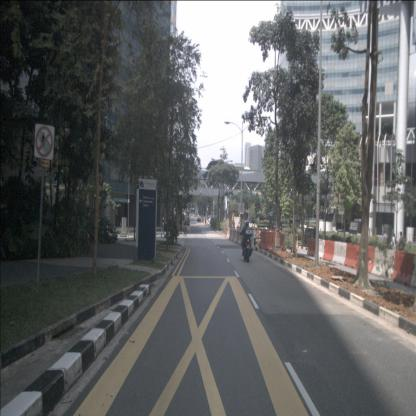human-pedestrian-adult: (395, 231, 406, 265), (382, 230, 388, 261), (390, 233, 396, 261), (161, 218, 165, 238)
movable_object-barrier: (391, 251, 416, 286), (370, 246, 395, 280), (357, 246, 375, 273), (344, 243, 361, 269), (332, 242, 348, 266), (260, 231, 276, 250), (323, 240, 334, 262), (314, 239, 325, 259), (307, 238, 317, 257), (237, 232, 242, 245), (233, 230, 238, 242), (226, 227, 230, 239), (224, 228, 228, 237), (230, 229, 233, 241)
vehicle-car: (184, 216, 190, 226)
vehicle-motorcycle: (239, 219, 253, 262)
